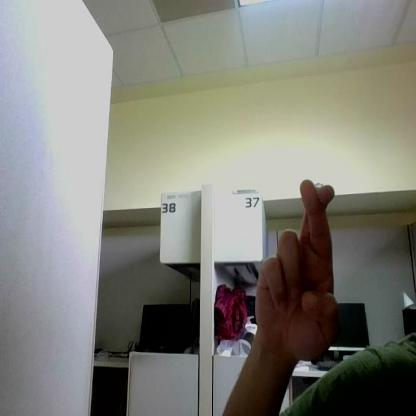R: (256, 180, 335, 360)
